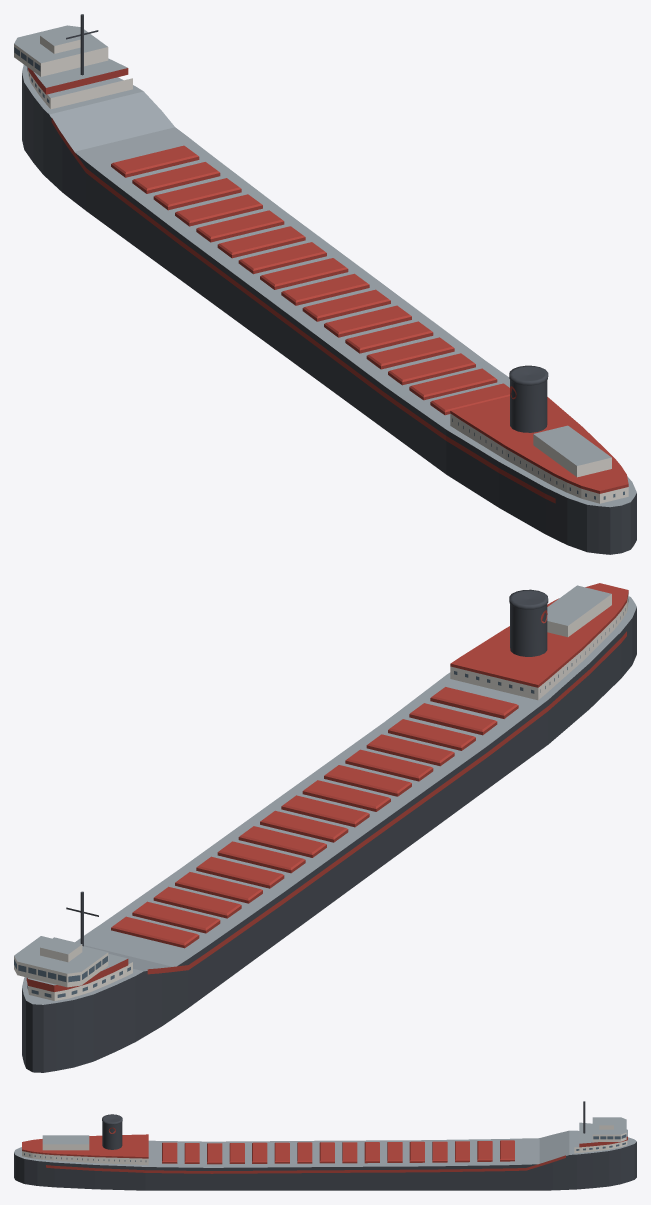
The model's file is cle-william-g-mather.glb.
3 renders of one model, top to bottom at view 1: azimuth 30°, elevation 25°; view 2: azimuth 150°, elevation 25°; view 3: azimuth 270°, elevation 25°, orthographic. The views are drawn at different scales.
Visible parts, largest first — view 1: SS William G. Mather; view 2: SS William G. Mather; view 3: SS William G. Mather.
Part boxes in pixels (x1,y1,x2,y2): SS William G. Mather: (14,14,636,554); SS William G. Mather: (14,583,636,1072); SS William G. Mather: (14,1101,636,1190).
Bounding box in the file's own units: 18.9 × 25.3 × 188.
